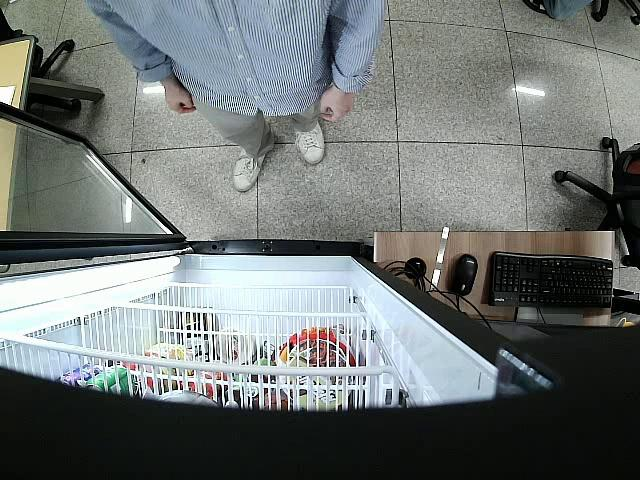00_hand: (316, 86, 353, 123), (162, 81, 196, 113)
